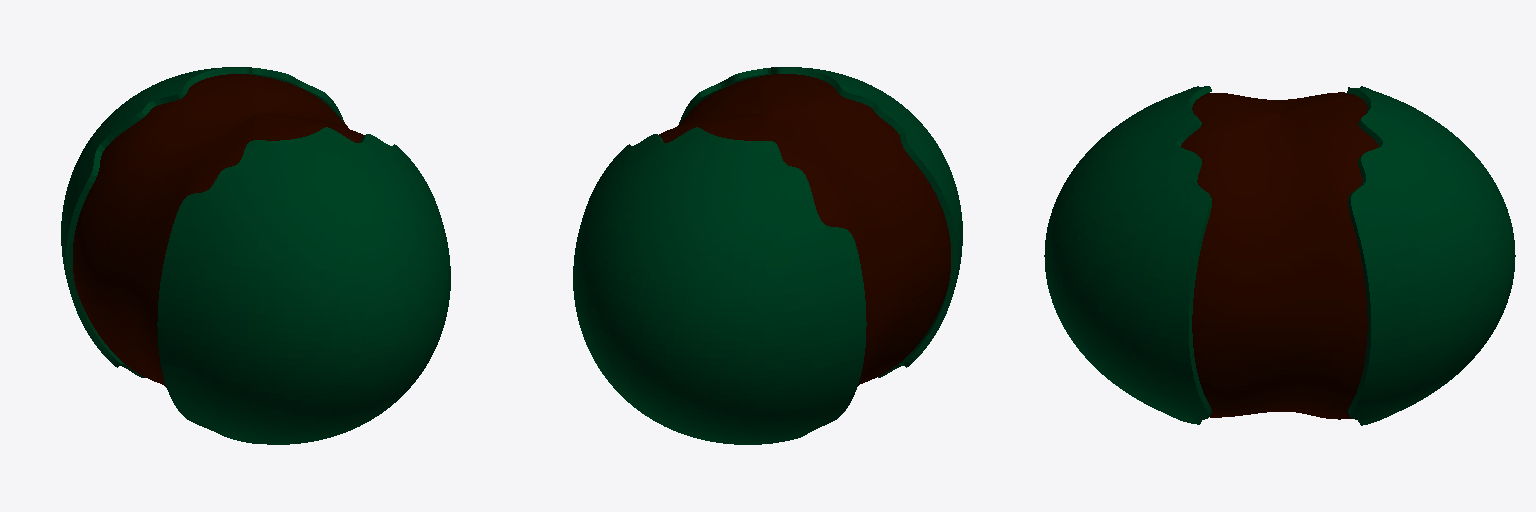
The model's file is world.obj.
The picture shows the model from 3 angles: view 1: azimuth 30°, elevation 25°; view 2: azimuth 150°, elevation 25°; view 3: azimuth 270°, elevation 25°; orthographic projection.
Parts seen in each view (by area): view 1: Sphere.001, Sphere; view 2: Sphere.001, Sphere; view 3: Sphere.001, Sphere.
Boxes of the visible parts, x1,y1,x2,y2 form: Sphere.001: [61, 67, 450, 444]; Sphere: [73, 74, 364, 387]; Sphere.001: [573, 67, 962, 444]; Sphere: [659, 74, 950, 385]; Sphere.001: [1044, 86, 1515, 425]; Sphere: [1181, 92, 1378, 419].
Bounding box in the file's own units: 30.65 × 30.84 × 43.34.